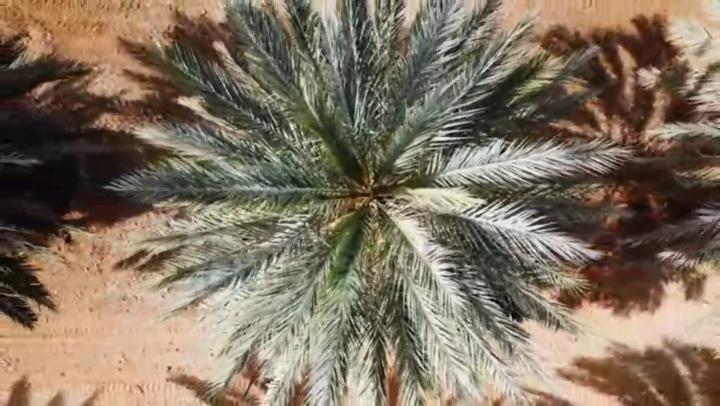Date-Palm-Crown: (243, 66, 491, 318)
